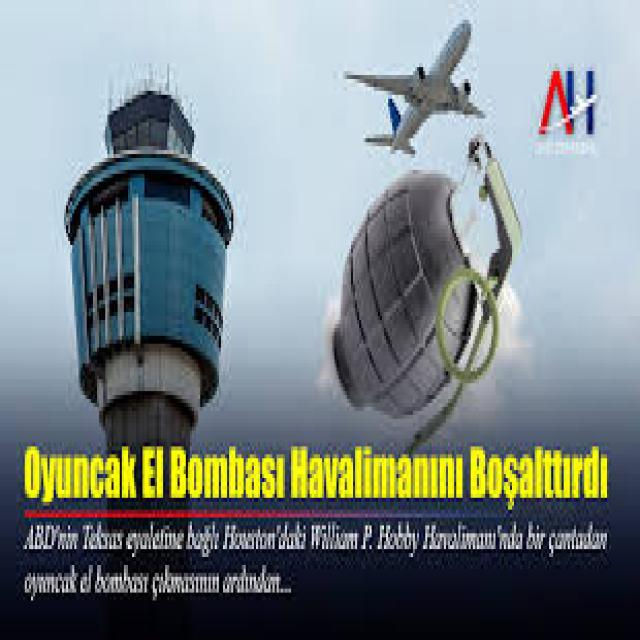grenade: (332, 137, 523, 455)
